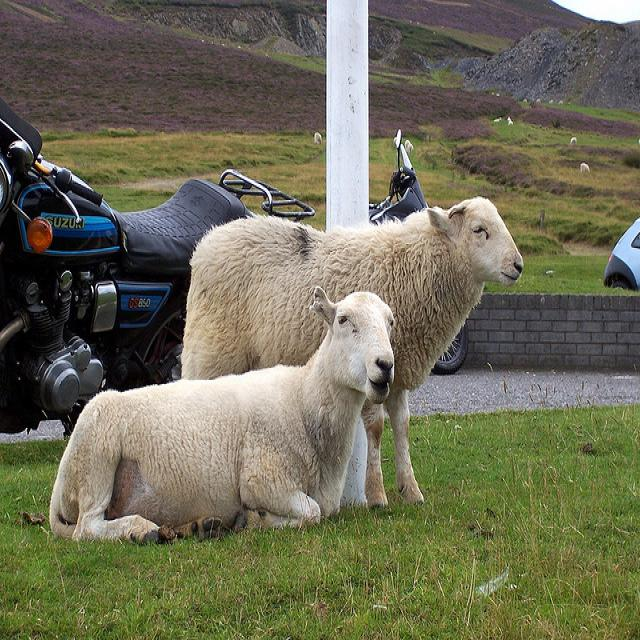motor: (1, 115, 315, 434), (369, 130, 429, 327), (420, 318, 470, 376)
